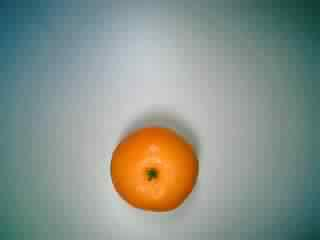orange: (108, 113, 203, 215)
